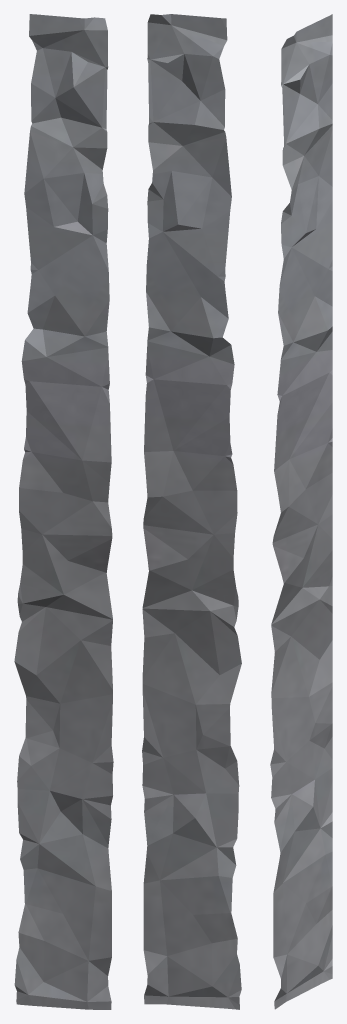
The picture shows the model from 3 angles, left to right: view 1: azimuth 30°, elevation 25°; view 2: azimuth 210°, elevation 25°; view 3: azimuth 270°, elevation 25°; orthographic projection. The views are drawn at different scales.
Bounding box in the file's own units: 0.0599 × 0.8373 × 0.0488.
1 material, 1 textured.
